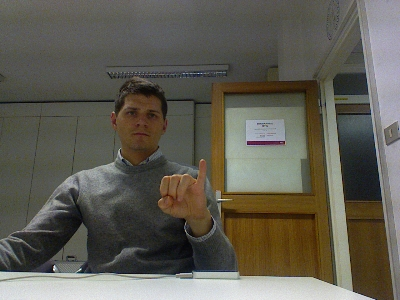小指: (157, 158, 208, 218)
